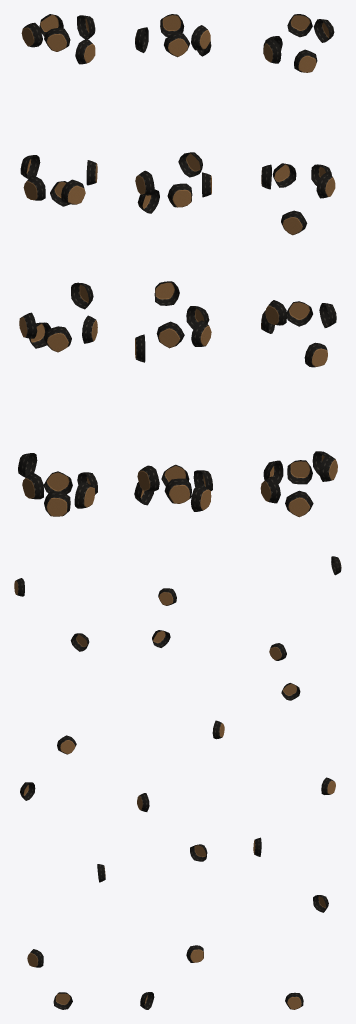
File: Sitka_OldLarge_02_HighPruned_Recent_LOD2.fbx
3 views of the same model, side by side, from view 1: azimuth 90°, elevation 25°; view 2: azimuth 150°, elevation 25°; view 3: azimuth 270°, elevation 25° (orthographic). The views are drawn at different scales.
Parts seen in each view (by area): view 1: Sitka_OldLarge_02_HighPruned_Recent_LOD2_Scars; view 2: Sitka_OldLarge_02_HighPruned_Recent_LOD2_Scars; view 3: Sitka_OldLarge_02_HighPruned_Recent_LOD2_Scars.
Part boxes in pixels (<box>): Sitka_OldLarge_02_HighPruned_Recent_LOD2_Scars: <box>14,14,105,1009</box>; Sitka_OldLarge_02_HighPruned_Recent_LOD2_Scars: <box>134,14,224,1009</box>; Sitka_OldLarge_02_HighPruned_Recent_LOD2_Scars: <box>253,14,341,1009</box>.
Size of what is drawn, in the model's own units: 69.58 by 837 by 68.93.
2 materials, 2 textured.
